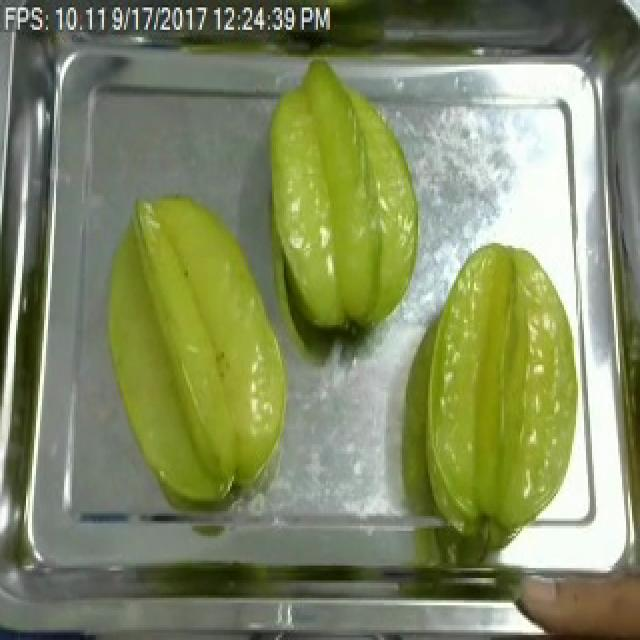fruit: (90, 184, 306, 518), (410, 236, 594, 558), (256, 57, 430, 345)
